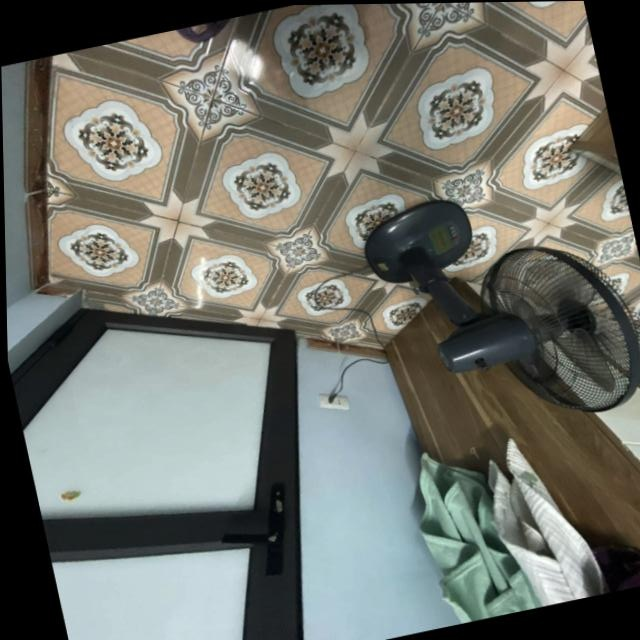outlet: (317, 387, 351, 415)
